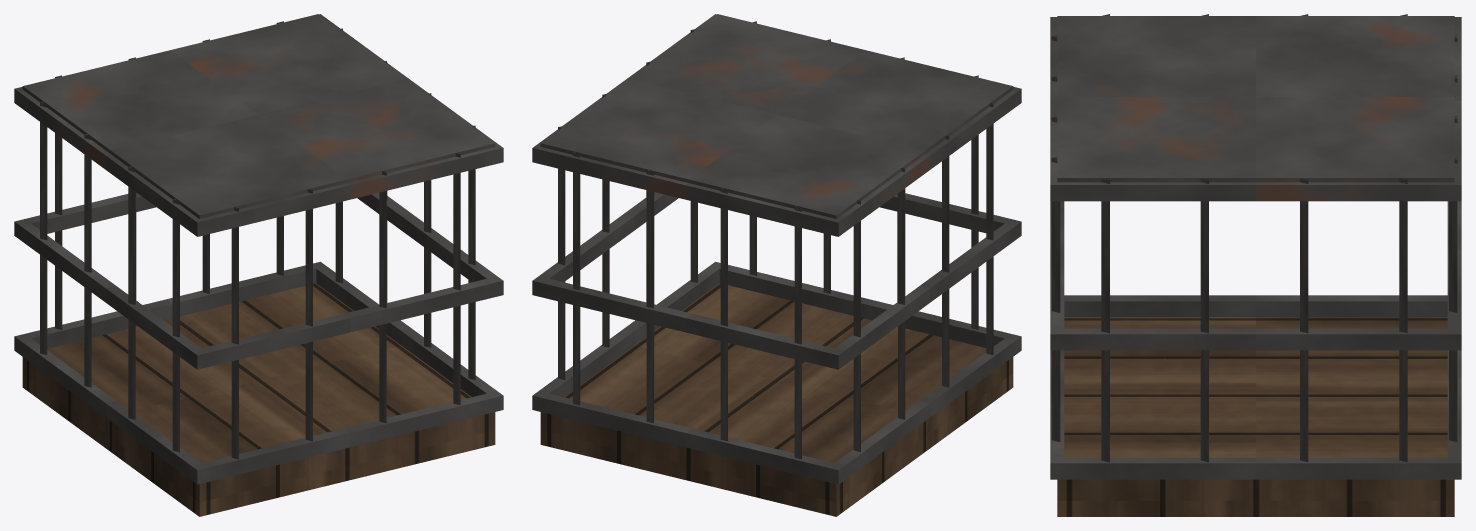
File: Cage_Small_LOD1.gltf
3 renders of one model, left to right at view 1: azimuth 30°, elevation 25°; view 2: azimuth 150°, elevation 25°; view 3: azimuth 270°, elevation 25°, orthographic. The views are drawn at different scales.
Visible parts, largest first — view 1: Cage_Small_LOD1; view 2: Cage_Small_LOD1; view 3: Cage_Small_LOD1.
Part boxes in pixels (left/top/right/bottom): Cage_Small_LOD1: left=14, top=14, right=503, bottom=516; Cage_Small_LOD1: left=532, top=14, right=1021, bottom=516; Cage_Small_LOD1: left=1050, top=14, right=1461, bottom=516.
Bounding box in the file's own units: 0.85 × 0.8 × 0.88.
2 materials, 2 textured.
